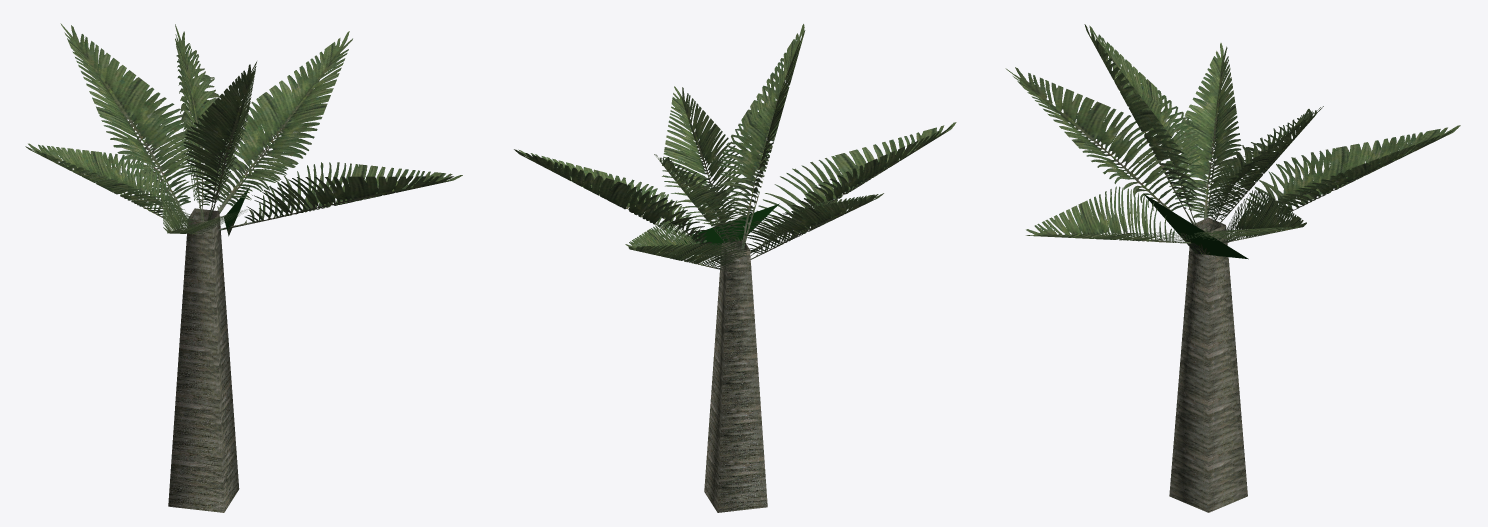
File: ever_palmtree_thk_l3.fbx
3 views of the same model, side by side, from view 1: azimuth 30°, elevation 25°; view 2: azimuth 150°, elevation 25°; view 3: azimuth 270°, elevation 25° (orthographic). The views are drawn at different scales.
Parts seen in each view (by area): view 1: mesh_node; view 2: mesh_node; view 3: mesh_node.
Boxes of the visible parts, box(x1,y1,x2,y2) form: mesh_node: box(25, 23, 462, 512); mesh_node: box(514, 24, 956, 512); mesh_node: box(1005, 24, 1460, 512).
Size of the model in its own units: 10.46 by 12.73 by 11.54.
3 materials, 3 textured.
